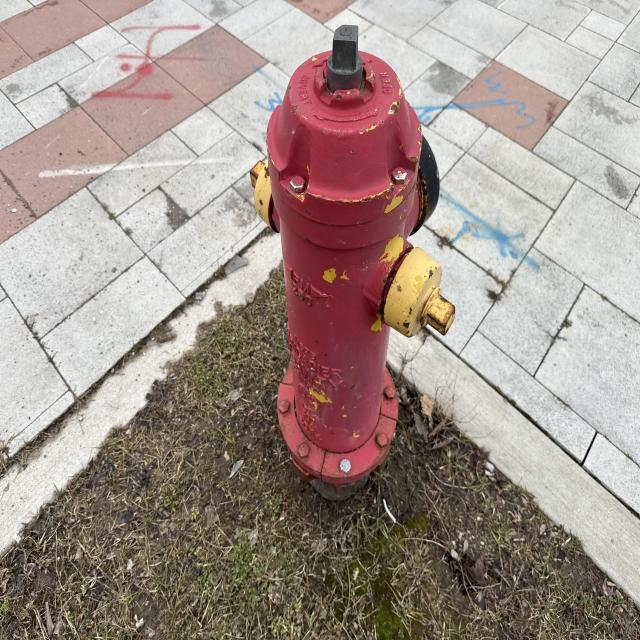Fire hydrant: (249, 24, 457, 493)
